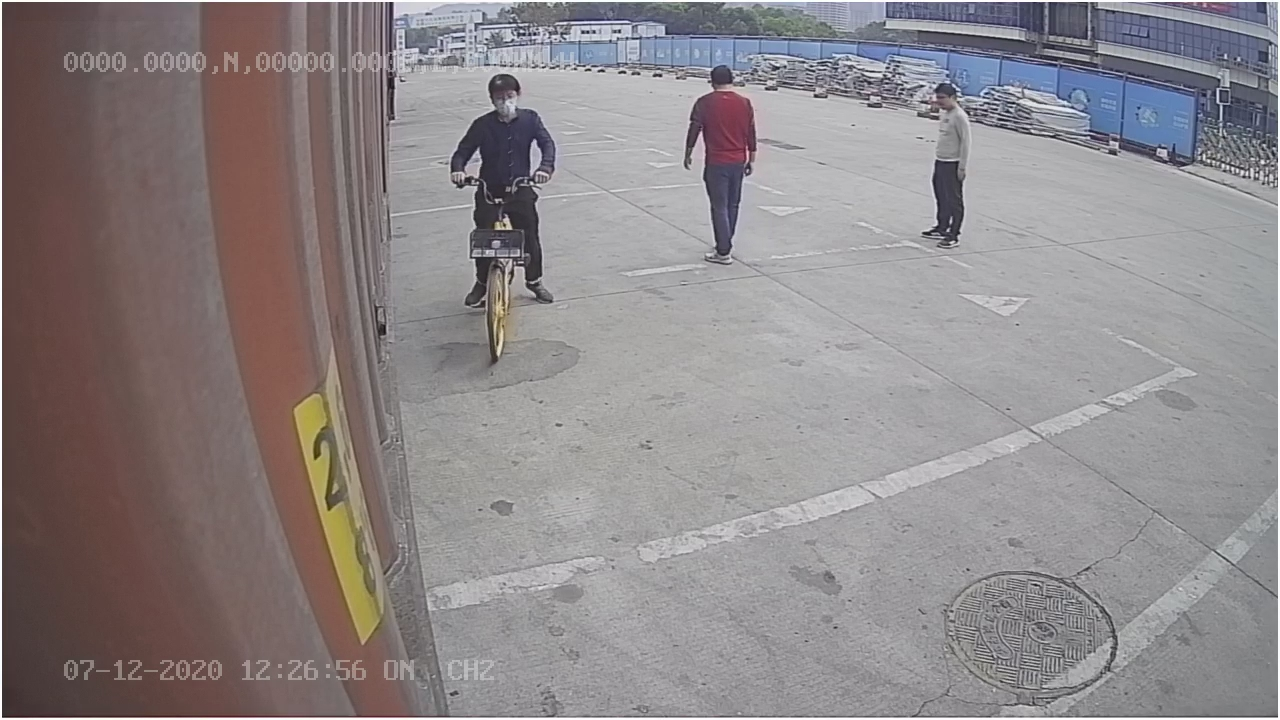person: (677, 62, 761, 269)
